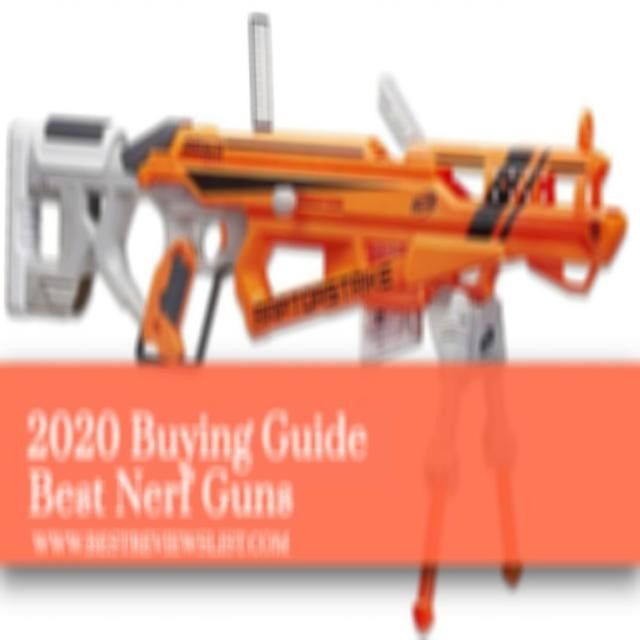Nerf gun: (4, 58, 625, 638)
